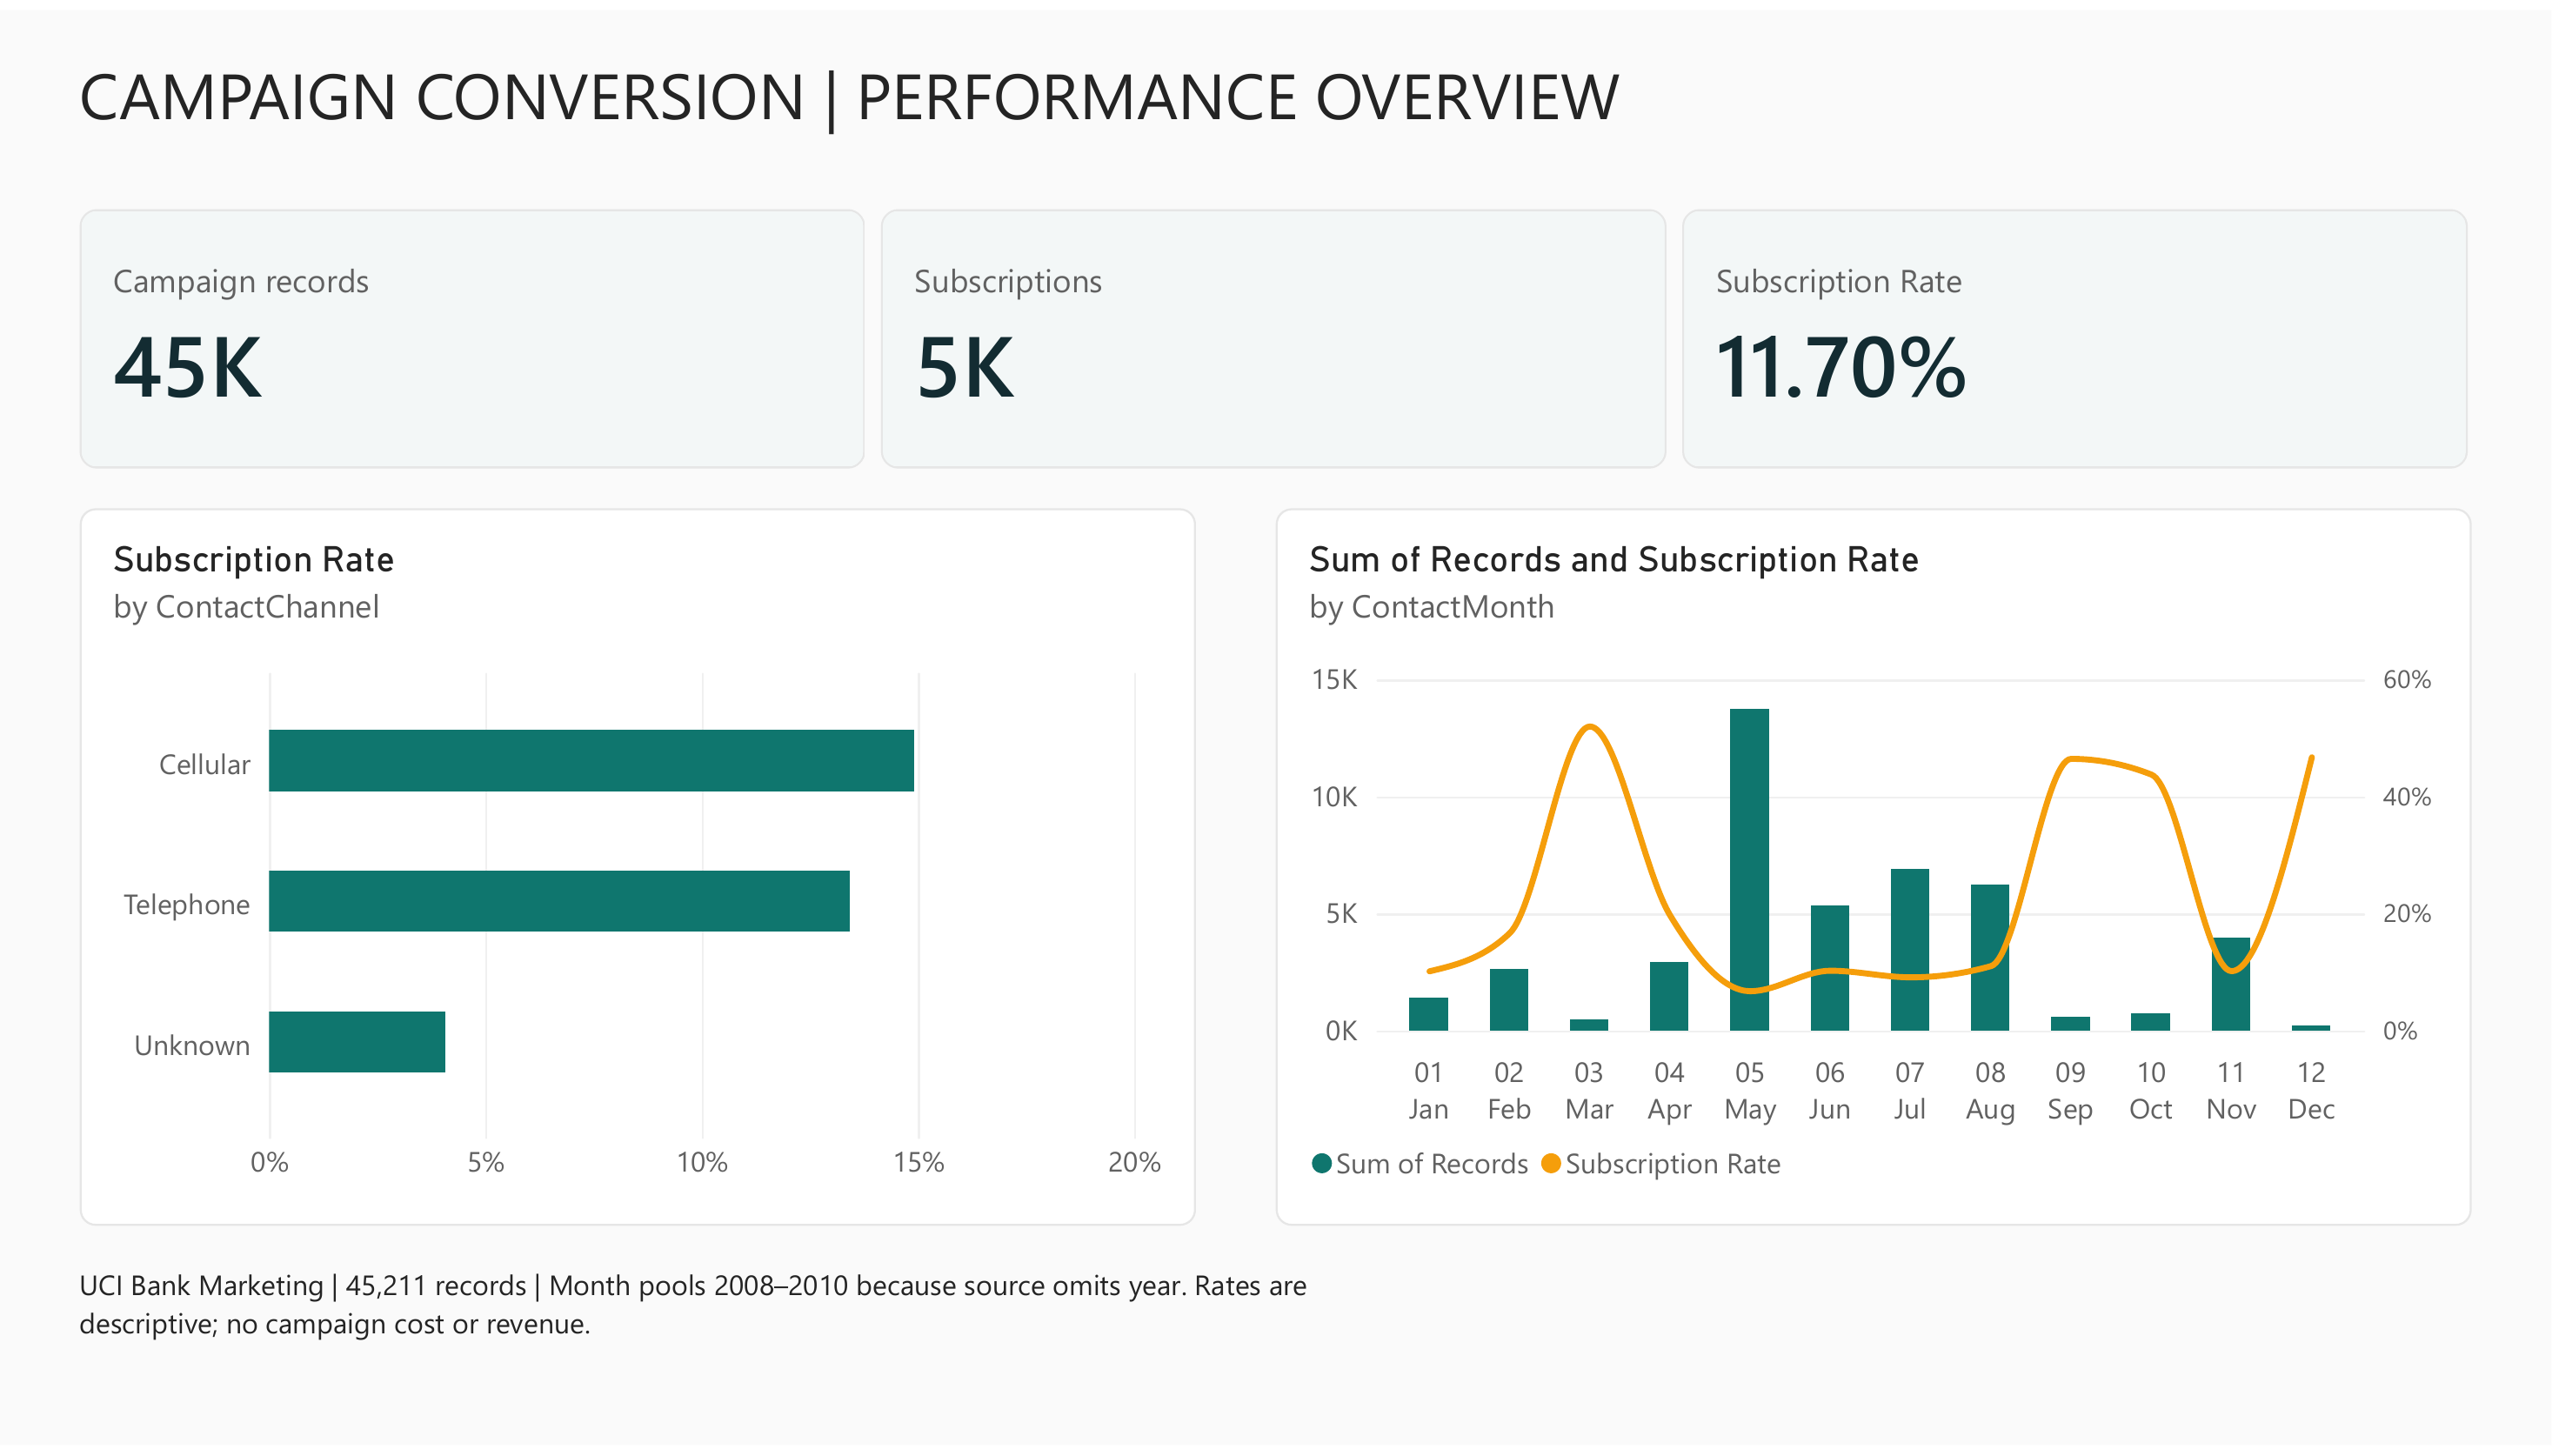

Layout of this report page (visuals, bound fields, positions):
{"tool":"powerbi","page":{"name":"01 Campaign Overview","canvas":[1280,720],"ordinal":0},"visuals":[{"type":"cardVisual","fields":{"Data":["Sum(campaigns.Records)","Sum(campaigns.Subscribed)","campaigns.Subscription Rate"]},"box":[40,100,1200,130],"z":0},{"type":"textbox","box":[40,20,1200,60],"z":1},{"type":"clusteredBarChart","fields":{"Category":["campaigns.ContactChannel"],"Y":["campaigns.Subscription Rate"]},"box":[40,250,560,360],"z":2},{"type":"lineClusteredColumnComboChart","fields":{"Category":["campaigns.ContactMonth"],"Y":["Sum(campaigns.Records)"],"Y2":["campaigns.Subscription Rate"]},"box":[640,250,600,360],"z":3},{"type":"textbox","box":[40,630,670,60],"z":4}]}

Visuals, with their boxes in screenshot pixels (x1, y1, x2, y2), scaled from the page's 1280x720 canvas onto the 2552x1456 screenshot:
cardVisual - Sum(campaigns.Records) x Sum(campaigns.Subscribed): [left=80, top=203, right=2472, bottom=465]
textbox: [left=80, top=40, right=2472, bottom=162]
clusteredBarChart - campaigns.ContactChannel x campaigns.Subscription Rate: [left=80, top=505, right=1196, bottom=1233]
lineClusteredColumnComboChart - campaigns.ContactMonth x Sum(campaigns.Records): [left=1276, top=505, right=2472, bottom=1233]
textbox: [left=80, top=1274, right=1415, bottom=1395]
